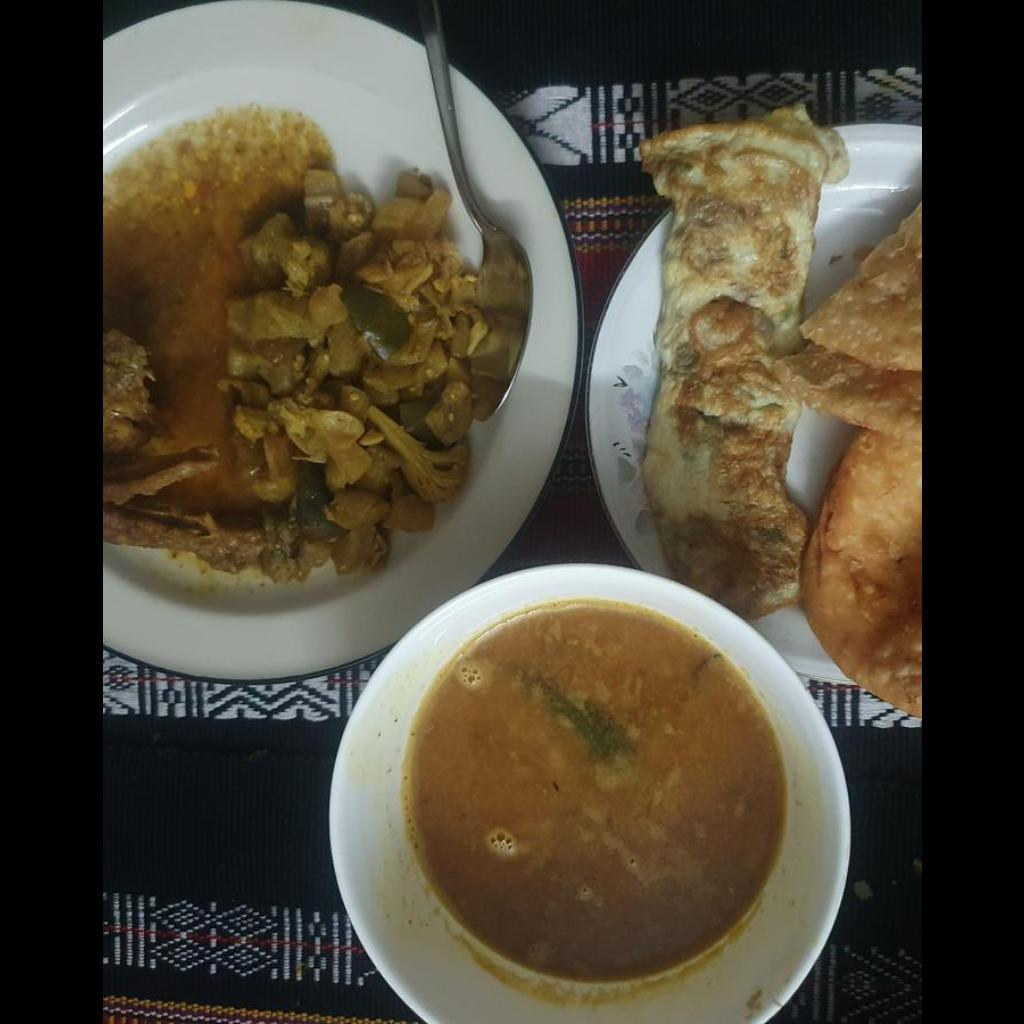daal: (411, 620, 774, 979)
egg-poached: (632, 104, 843, 617)
puri: (768, 203, 920, 711)
vegetable: (102, 160, 480, 587)
